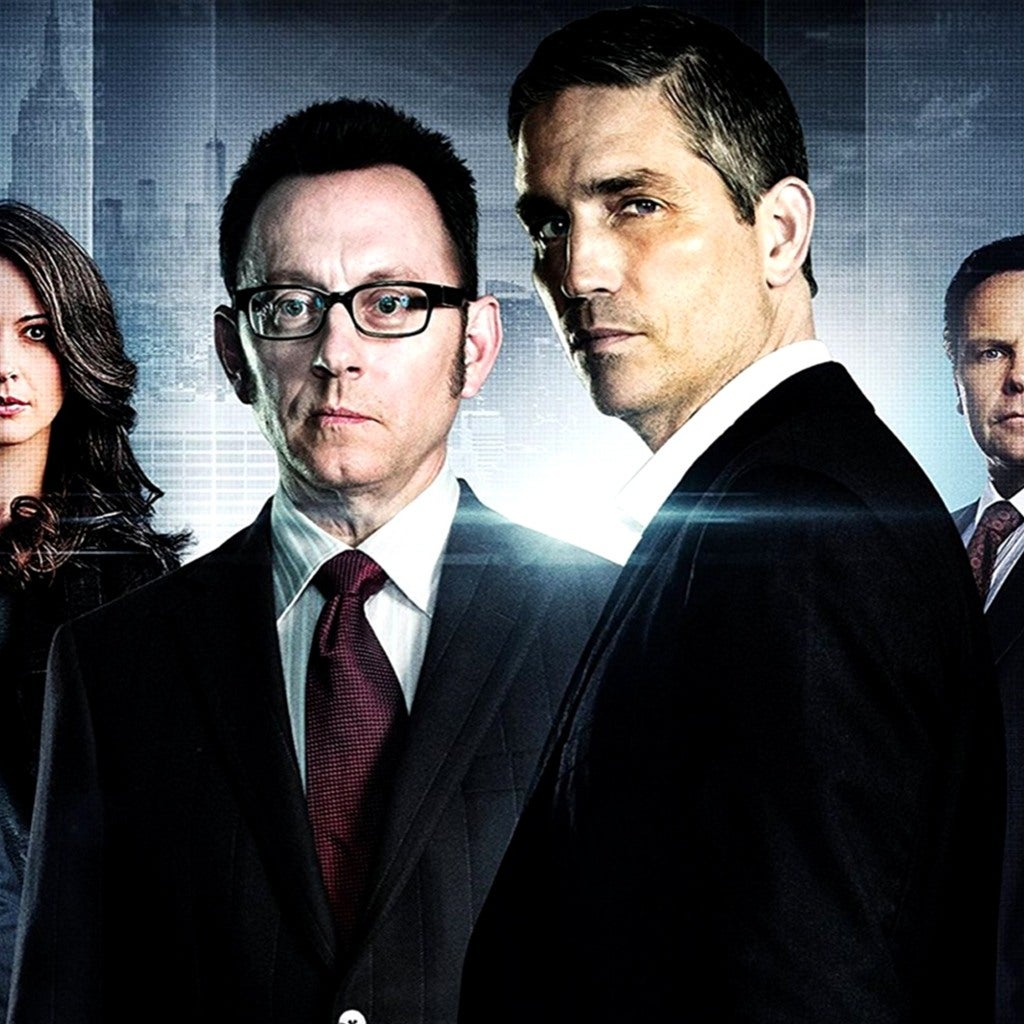human: (74, 85, 589, 1024), (492, 18, 972, 1024), (1, 167, 188, 871), (934, 208, 1024, 825)
